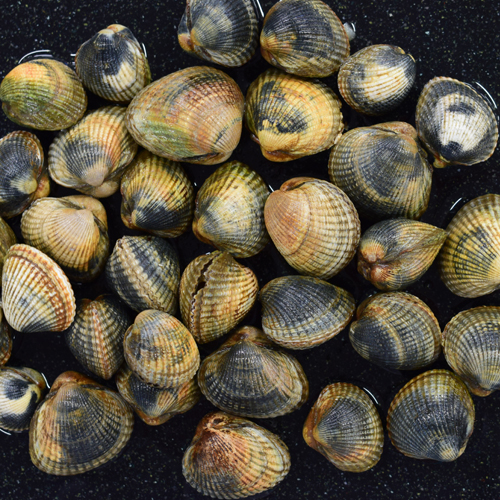cockle: (122, 65, 244, 163), (25, 370, 135, 478), (194, 322, 312, 418), (325, 118, 436, 220), (262, 173, 361, 277), (242, 66, 343, 166), (180, 411, 293, 500), (381, 368, 477, 464), (298, 377, 385, 478), (45, 105, 138, 197), (175, 244, 260, 343), (342, 290, 445, 371), (414, 70, 500, 166), (251, 1, 351, 83), (18, 196, 116, 279), (260, 274, 357, 352), (190, 161, 270, 255), (2, 244, 78, 338), (357, 217, 451, 291), (99, 234, 182, 317), (1, 56, 92, 130), (438, 188, 497, 302), (71, 22, 151, 105), (171, 1, 265, 69), (119, 150, 189, 237), (332, 43, 419, 112), (440, 300, 499, 400), (113, 360, 201, 426), (69, 299, 127, 380), (1, 126, 50, 221), (1, 362, 53, 441)
